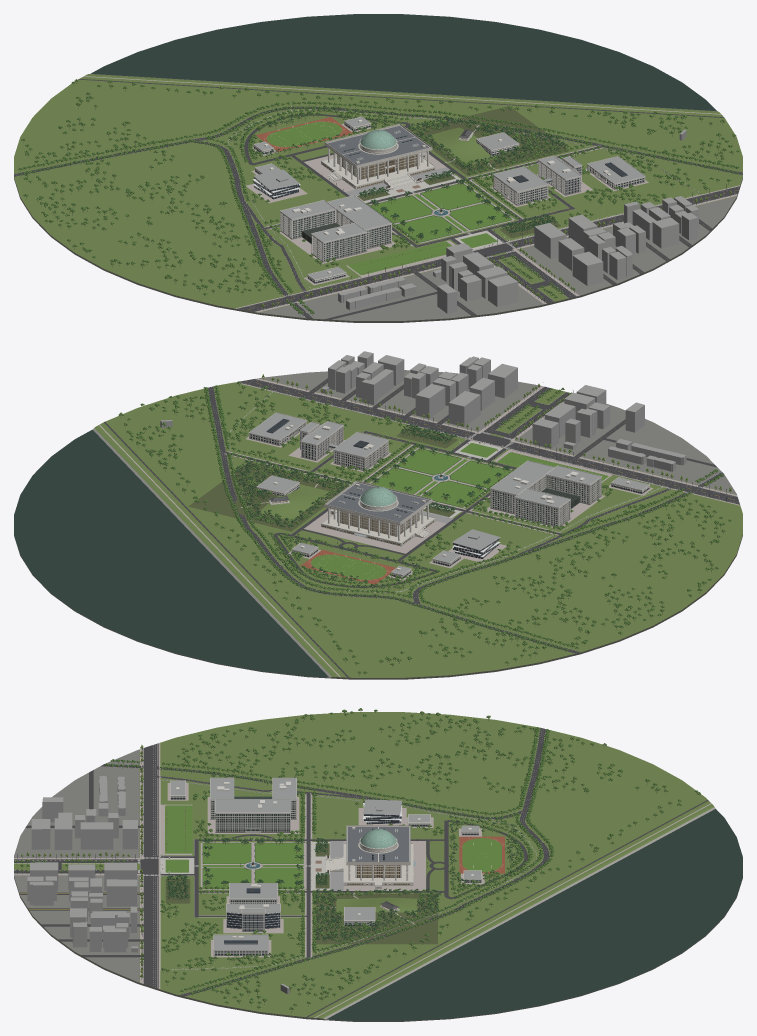
The model's file is national_assembly_campus.glb.
The picture shows the model from 3 angles, top to bottom: view 1: azimuth 30°, elevation 25°; view 2: azimuth 150°, elevation 25°; view 3: azimuth 270°, elevation 25°; orthographic projection.
Visible parts, largest first — view 1: Site_Ground, Site_Han_River, Site_Context_Buildings, Site_Roads, LM_Members_Office, Site_Lawn_Plaza, Site_Gate_Zone, Site_Walks, Site_Sidewalks, Site_Riverside_Paths, LM_Small_Buildings, Site_Sports_Field (+12 smaller); view 2: Site_Ground, Site_Han_River, Site_Context_Buildings, Site_Roads, LM_Members_Office, Site_Lawn_Plaza, Site_Walks, Site_Sidewalks, Site_Gate_Zone, LM_Small_Buildings, Site_Han_River_Banks, Site_Sports_Field (+11 smaller); view 3: Site_Ground, Site_Han_River, Site_Context_Buildings, Site_Roads, Site_Lawn_Plaza, LM_Members_Office, Site_Walks, Site_Gate_Zone, Site_Han_River_Banks, Site_Sidewalks, Site_Sports_Field, LM_Small_Buildings (+12 smaller).
Boxes of the visible parts, x1,y1,x2,y2 form: Site_Ground: (14,74,742,320); Site_Han_River: (14,14,742,322); Site_Context_Buildings: (338,129,698,313); Site_Roads: (14,106,742,319); LM_Members_Office: (280,195,392,262); Site_Lawn_Plaza: (369,182,514,243); Site_Gate_Zone: (346,218,560,276); Site_Walks: (246,123,648,285); Site_Sidewalks: (235,185,740,312); Site_Riverside_Paths: (78,76,724,117); LM_Small_Buildings: (253,116,519,283); Site_Sports_Field: (256,117,352,151); Site_Ground: (96,370,742,677); Site_Han_River: (14,429,742,679); Site_Context_Buildings: (160,351,686,471); Site_Roads: (208,378,739,653); LM_Members_Office: (490,460,602,526); Site_Lawn_Plaza: (369,447,512,508); Site_Walks: (224,431,653,580); Site_Sidewalks: (235,378,740,505); Site_Gate_Zone: (396,427,612,482); LM_Small_Buildings: (256,475,649,578); Site_Han_River_Banks: (92,427,334,677); Site_Sports_Field: (300,550,396,584); Site_Ground: (14,712,713,1017); Site_Han_River: (14,809,742,1021); Site_Context_Buildings: (27,776,289,994); Site_Roads: (14,727,549,996); Site_Lawn_Plaza: (200,842,306,889); LM_Members_Office: (210,777,296,833); Site_Walks: (167,783,484,957); Site_Gate_Zone: (160,804,193,903); Site_Han_River_Banks: (320,805,715,1020); Site_Sidewalks: (14,743,160,989); Site_Sports_Field: (459,836,504,873); LM_Small_Buildings: (170,780,481,926).
Size of the model in its own units: 1297 by 76.41 by 1297.
